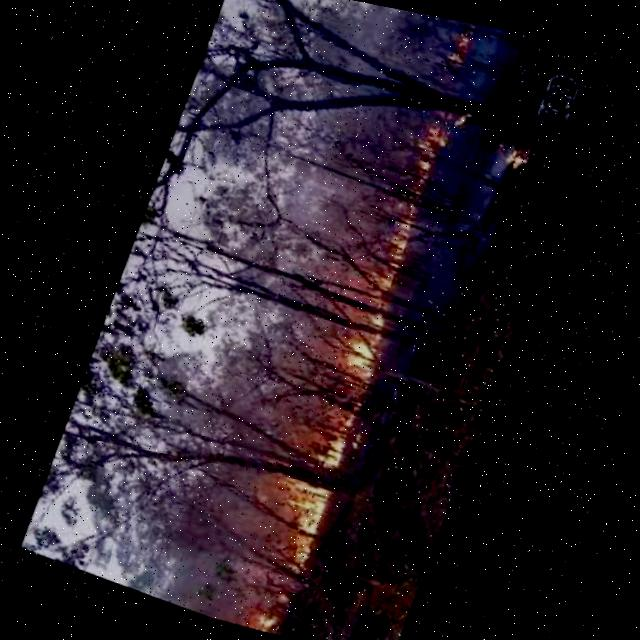fire: (327, 109, 456, 383), (249, 402, 363, 578), (243, 609, 304, 640), (440, 34, 471, 81), (499, 143, 532, 180)
